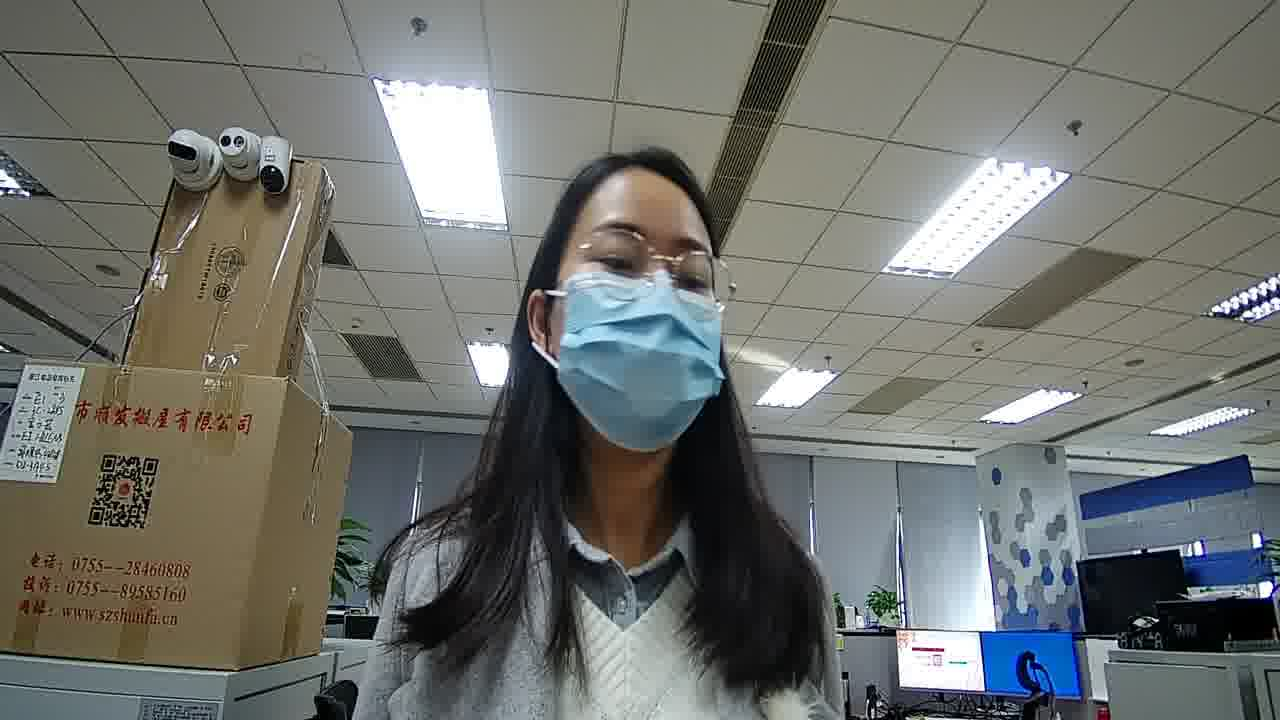face: (551, 183, 725, 453)
mask: (558, 272, 726, 453)
person: (364, 155, 850, 695)
